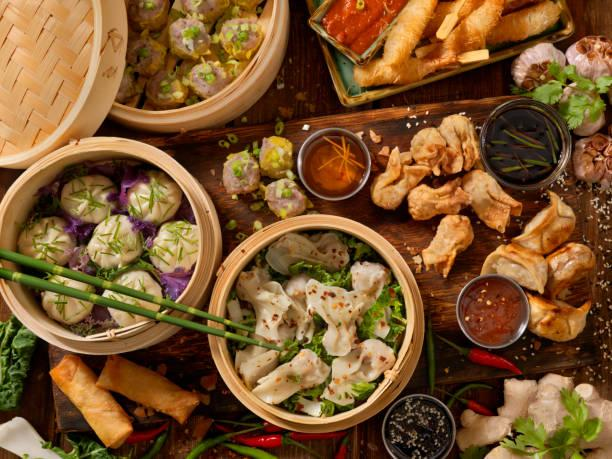Braised Crucian Carp: (205, 214, 421, 431), (0, 137, 216, 351), (108, 0, 289, 134)
